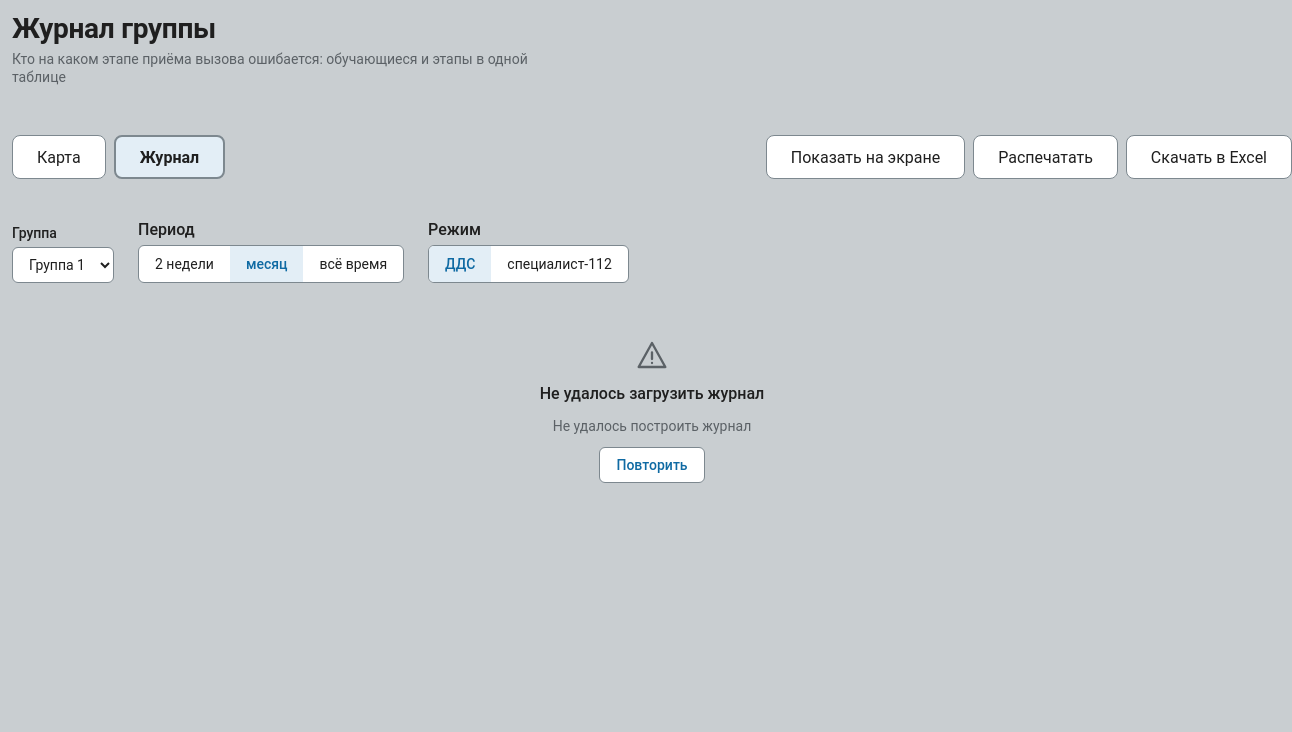
Test: страница «Журнал группы» › состояния › прочая ошибка — сообщение сервера и повтор
Check: the text "Не удалось построить журнал" is shown, box x1=553 y1=417 x2=751 y2=436
Click the button "Повторить" at (652, 466), box x1=599 y1=448 x2=704 y2=484
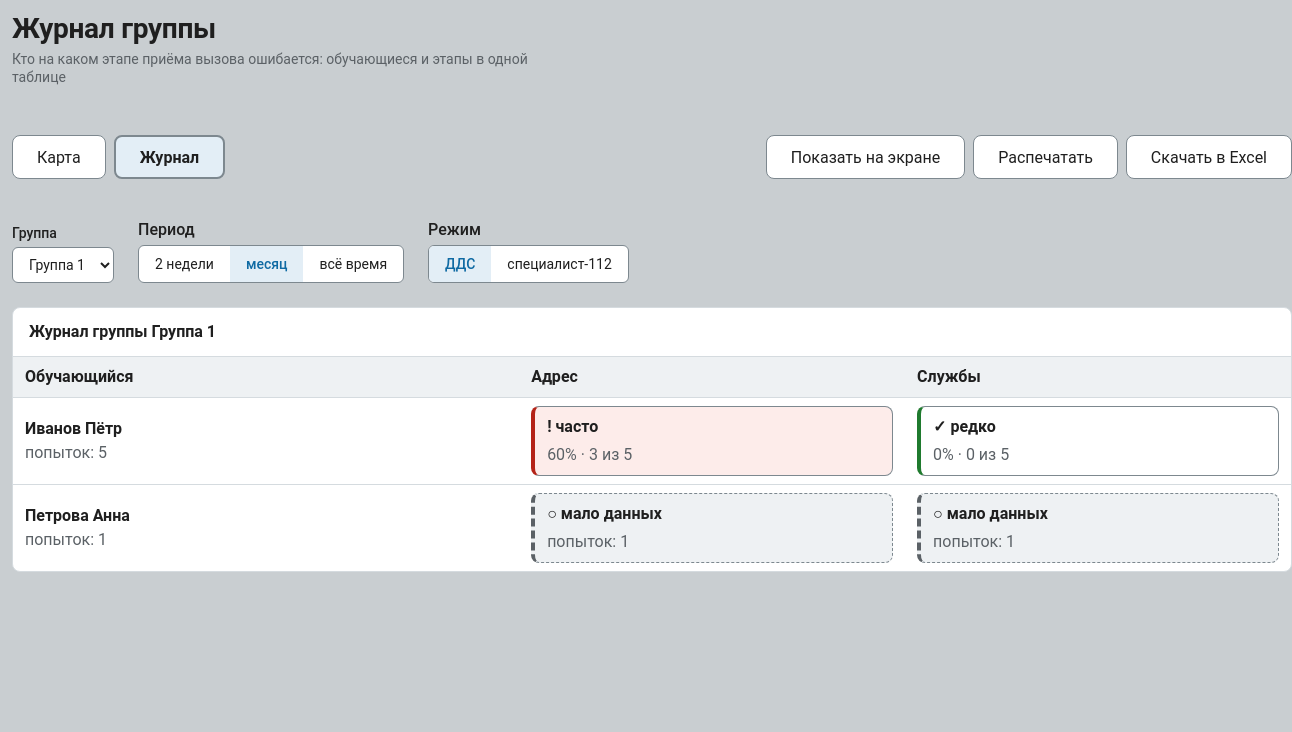
Check: the table is shown, box x1=13 y1=308 x2=1291 y2=571
